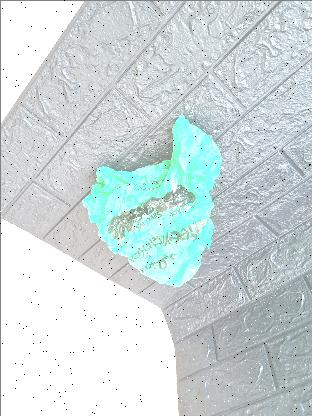Others: (80, 115, 220, 287)
